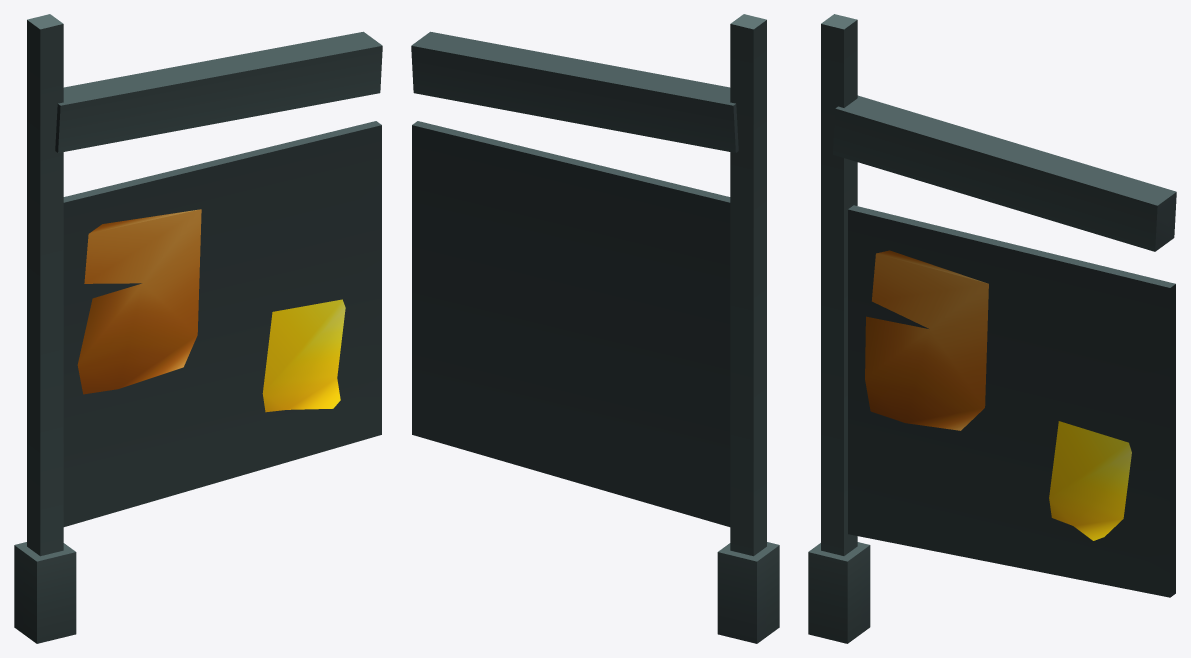
File: Metal_Fence_2C.fbx
The picture shows the model from 3 angles, left to right: view 1: azimuth 30°, elevation 25°; view 2: azimuth 150°, elevation 25°; view 3: azimuth 330°, elevation 25°; orthographic projection.
Visible parts, largest first — view 1: Metal_Fence_2C; view 2: Metal_Fence_2C; view 3: Metal_Fence_2C.
Part boxes in pixels (x1,y1,x2,y2): Metal_Fence_2C: [14, 14, 382, 643]; Metal_Fence_2C: [411, 14, 779, 643]; Metal_Fence_2C: [808, 14, 1176, 643].
Size of the model in its own units: 213 by 350 by 29.5.
